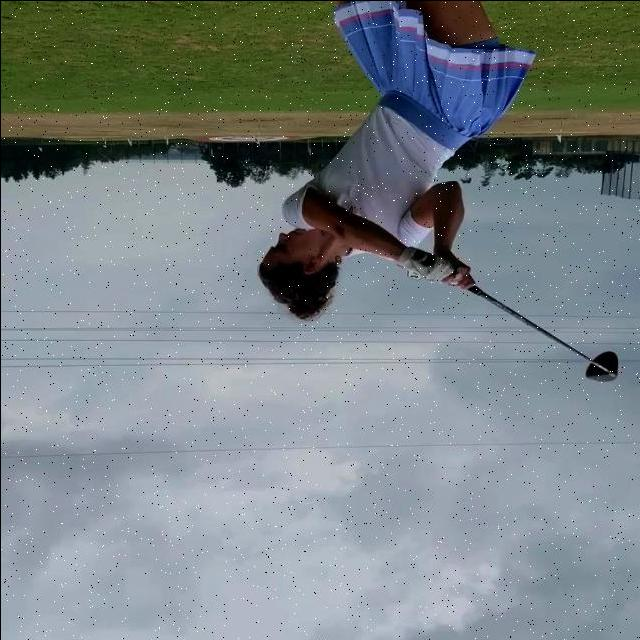ClubHandle: (411, 250, 618, 381)
ClubHead: (584, 349, 617, 381)
